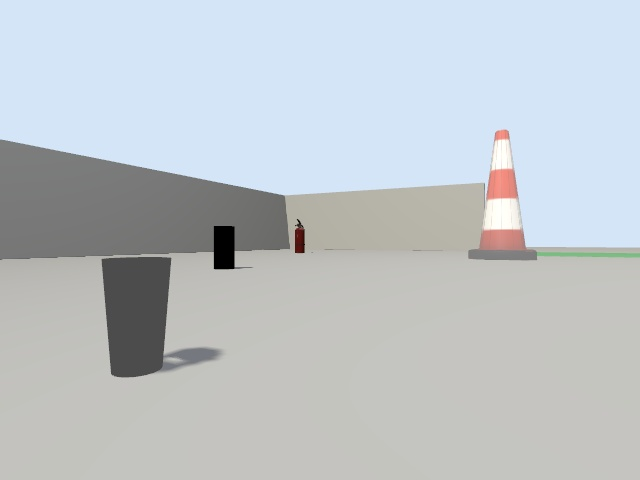bouteille_verre: (213, 226, 234, 269)
cone_chantier: (468, 130, 536, 259)
extincteur: (294, 219, 304, 252)
gobelet: (102, 257, 171, 376)
